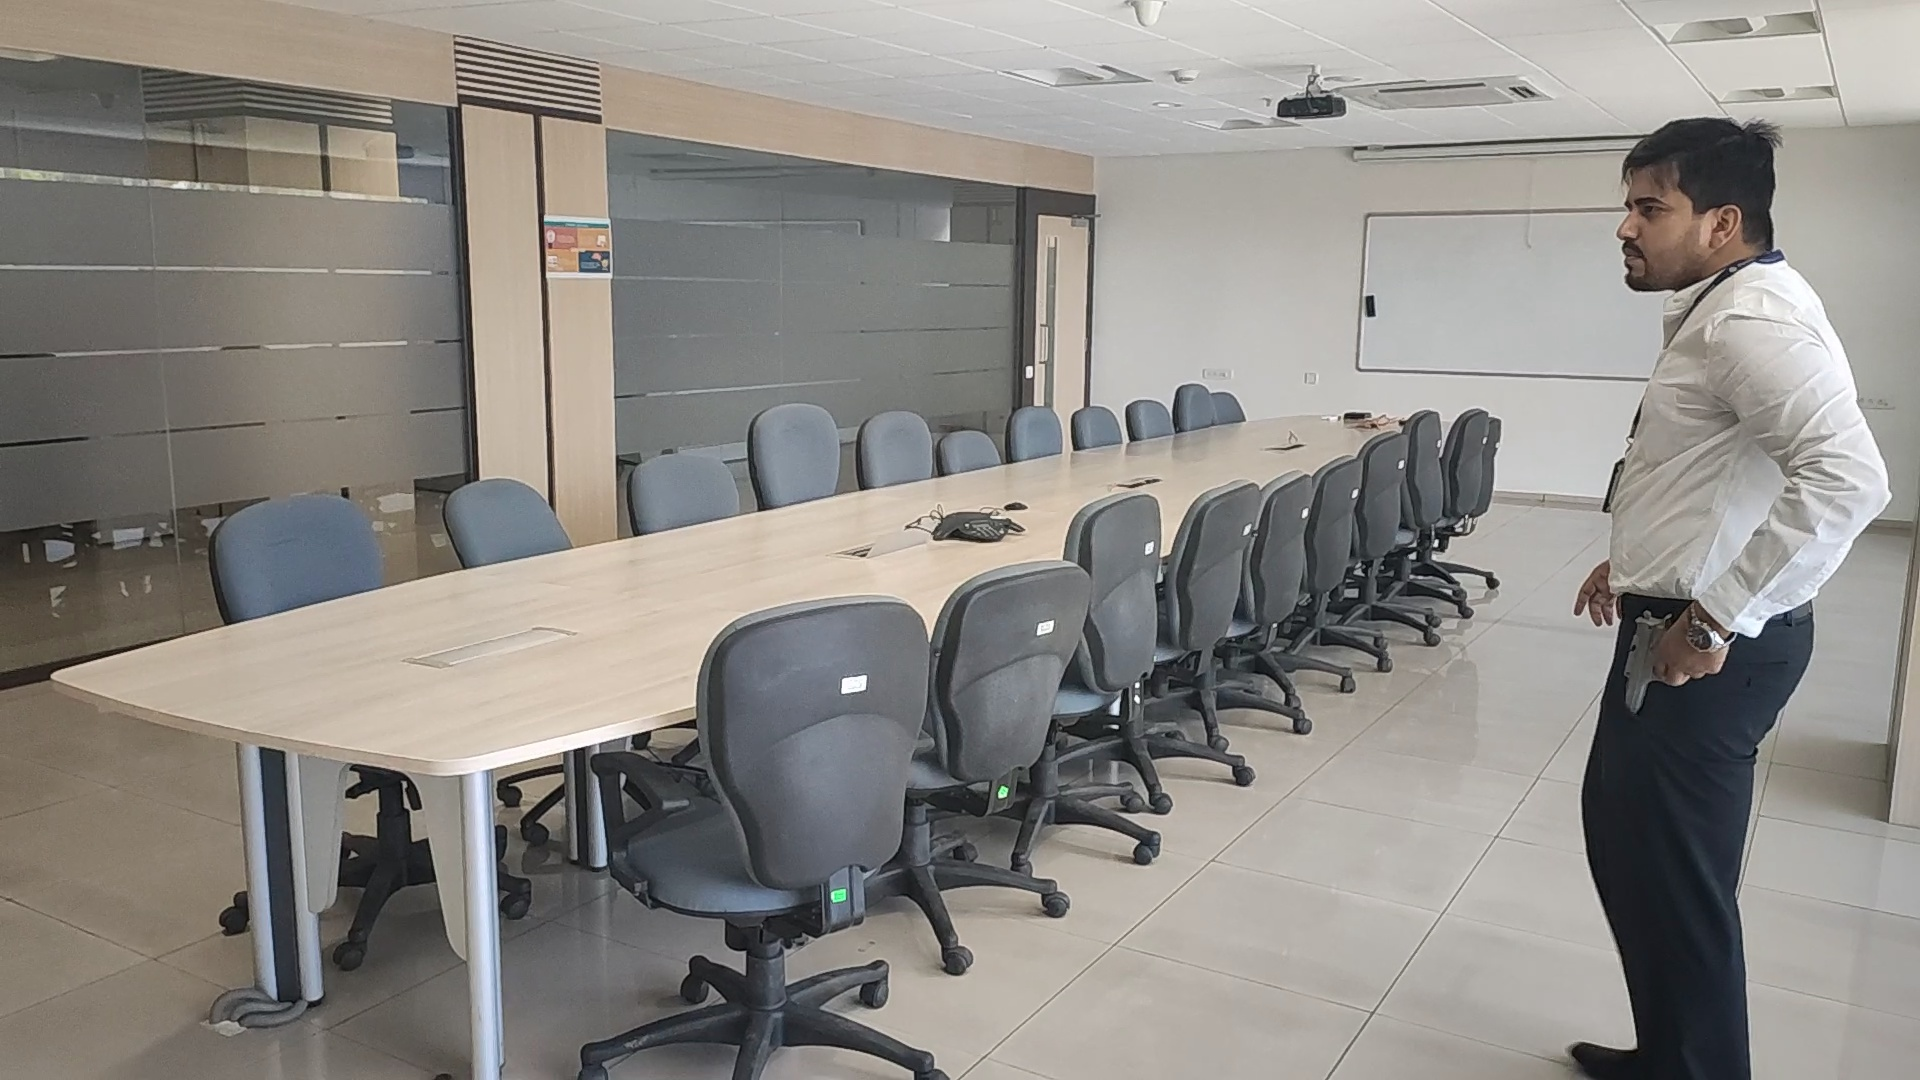gun: (1622, 611, 1673, 712)
